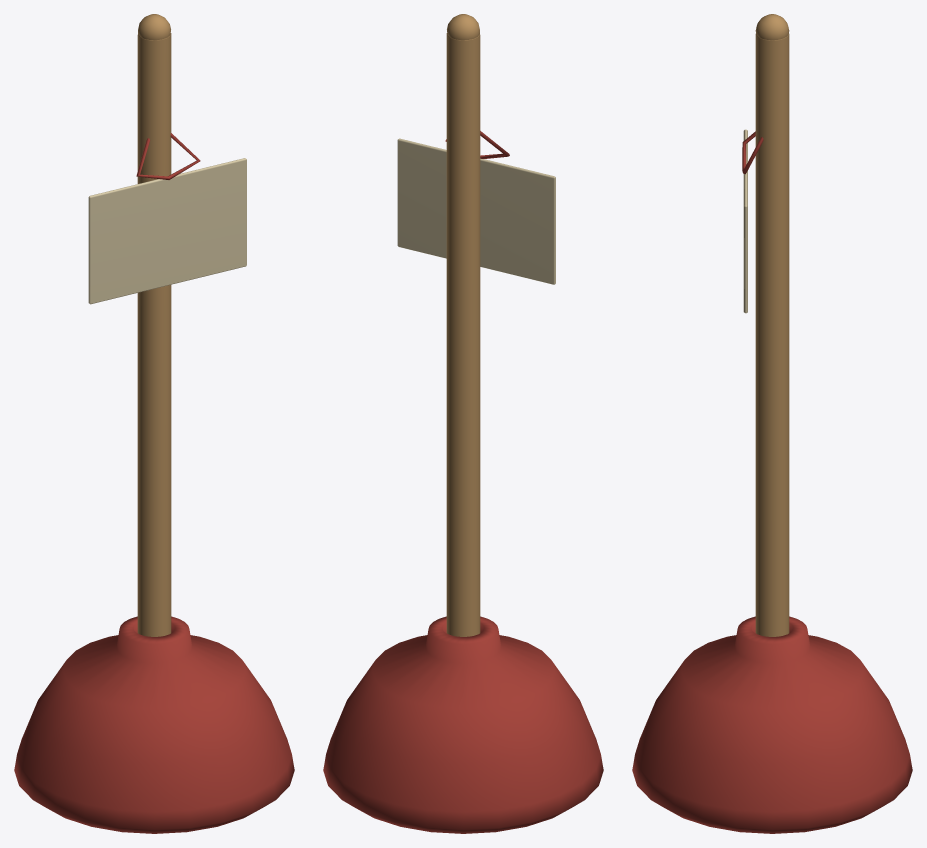
File: P045_plunger_rebuilt.glb
3 views of the same model, side by side, from view 1: azimuth 30°, elevation 25°; view 2: azimuth 150°, elevation 25°; view 3: azimuth 270°, elevation 25° (orthographic).
Parts seen in each view (by area): view 1: Plunger_matte_red_rubber, Plunger_wooden_shaft, Plunger_hanging_paper_tag; view 2: Plunger_matte_red_rubber, Plunger_wooden_shaft, Plunger_hanging_paper_tag; view 3: Plunger_matte_red_rubber, Plunger_wooden_shaft, Plunger_hanging_paper_tag.
Part boxes in pixels (<box>): Plunger_matte_red_rubber: <box>14,133,294,833</box>; Plunger_wooden_shaft: <box>137,14,171,636</box>; Plunger_hanging_paper_tag: <box>88,158,246,304</box>; Plunger_matte_red_rubber: <box>323,131,603,833</box>; Plunger_wooden_shaft: <box>446,14,480,636</box>; Plunger_hanging_paper_tag: <box>397,138,555,284</box>; Plunger_matte_red_rubber: <box>632,131,912,833</box>; Plunger_wooden_shaft: <box>755,14,789,636</box>; Plunger_hanging_paper_tag: <box>743,129,747,313</box>.
Bounding box in the file's own units: 0.2 × 0.602 × 0.2.
